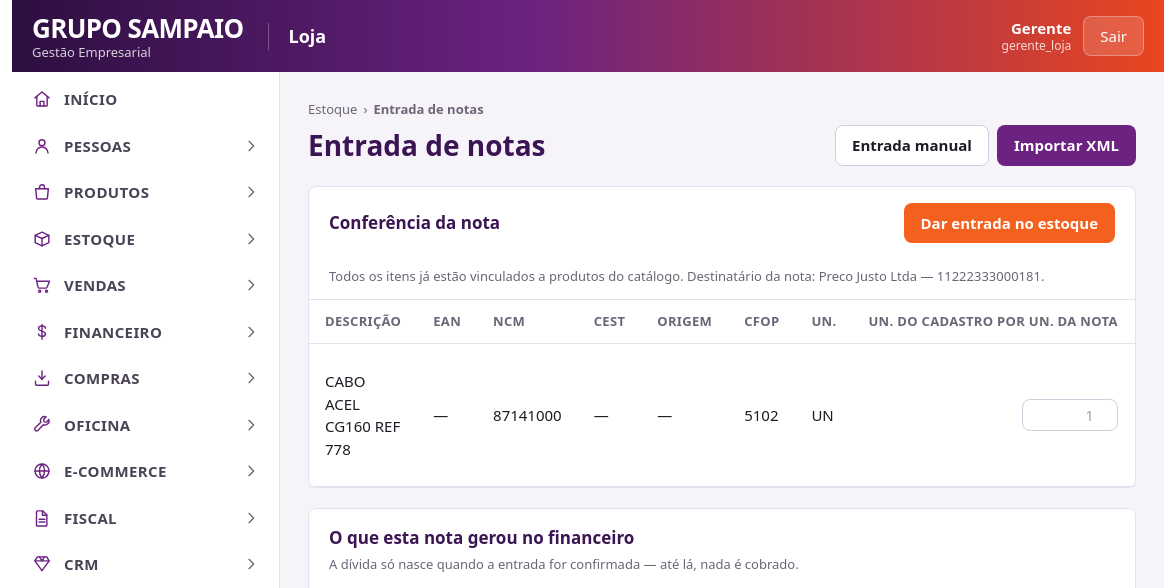
Test: B-02 e B-03 — o destinatário e a conta a pagar dispensada › a conferência mostra o destinatário; a entrada diz que não gerou conta
This screenshot has width=1164, height=588.
Expected: the heading "Conferência da nota" is shown, [329,210,500,236]
Expected: the text "Destinatário da nota: Preco Justo Ltda — 11222333000181" is shown, [309,255,1135,300]
Click the button "Dar entrada no estoque": (1009, 223) [904,202,1115,243]
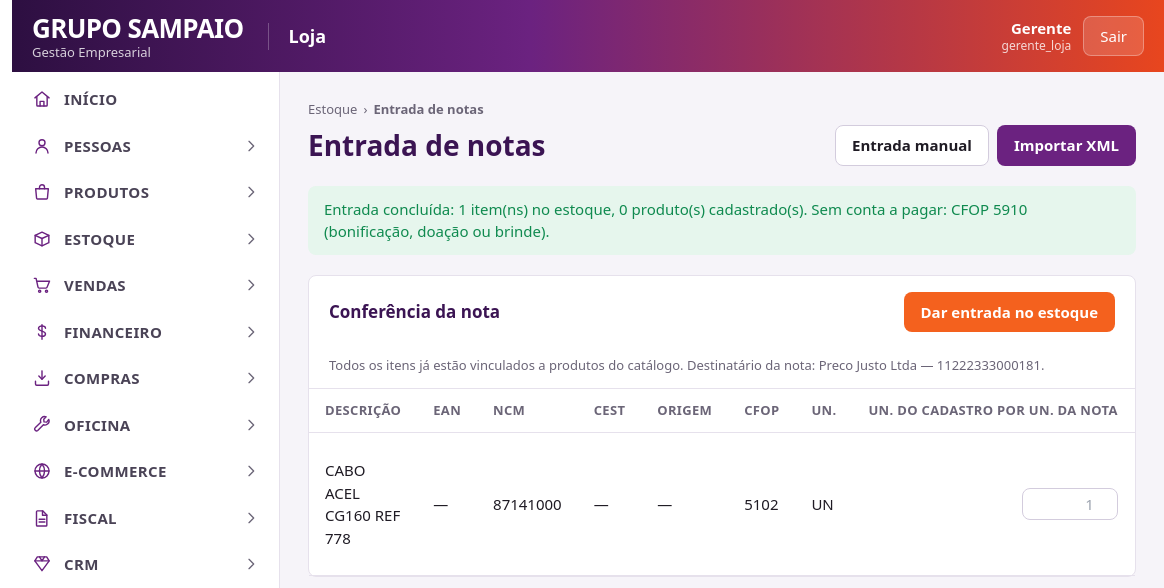
Result: the message shows "Sem conta a pagar: CFOP 5910" at [324,198,1027,241]
